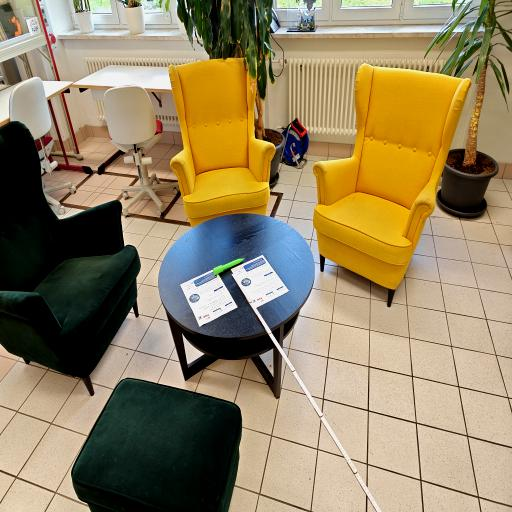Probe-Detection: (213, 258, 244, 275)
